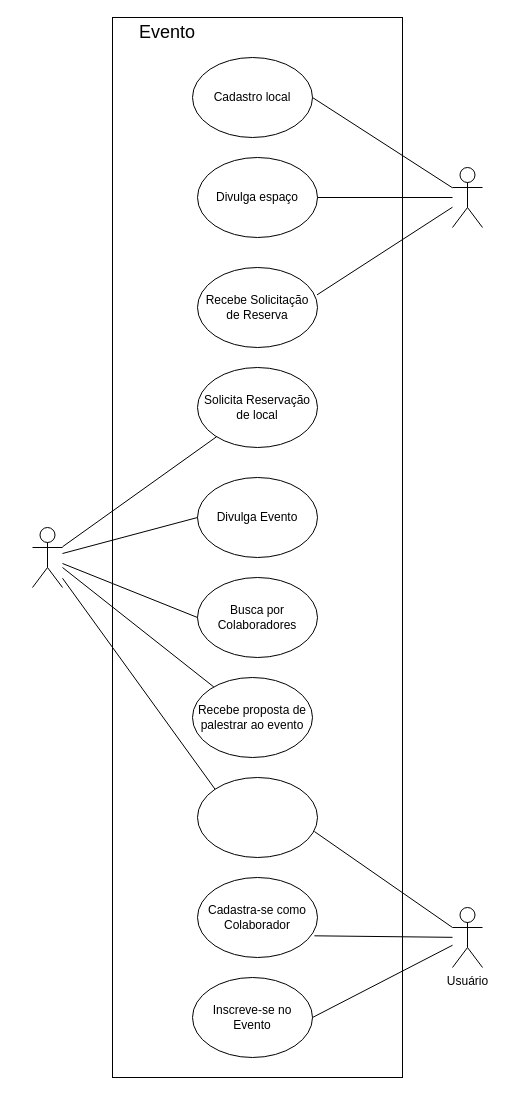
Image size: 515x1095. Some labels were removed from this diagram. The box of each missing label's shape, as (x1, y1, x2, y2) in pixels:
Associação: (452, 166, 482, 228)
Cadastra perfil: (196, 776, 318, 858)
Palestrante: (32, 526, 62, 588)
